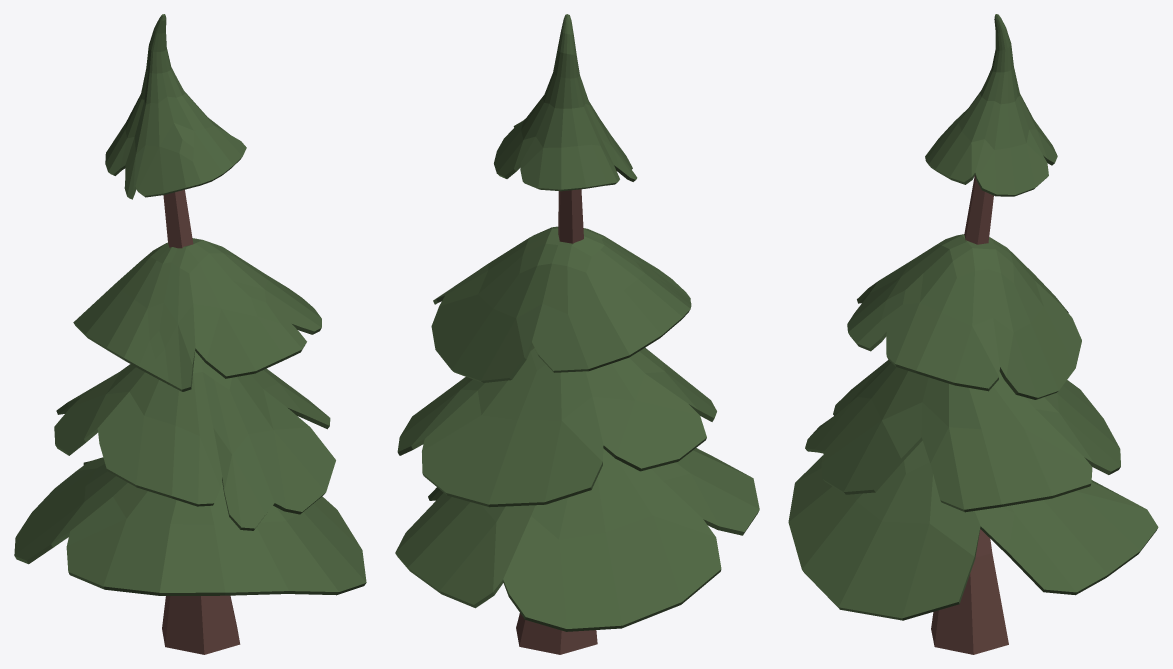
Rendered from PineTree_2.glb.
3 views of the same model, side by side, from view 1: azimuth 30°, elevation 25°; view 2: azimuth 150°, elevation 25°; view 3: azimuth 270°, elevation 25° (orthographic). The views are drawn at different scales.
Parts seen in each view (by area): view 1: PineTree_2; view 2: PineTree_2; view 3: PineTree_2.
Part boxes in pixels (x1,y1,x2,y2): PineTree_2: (14, 14, 366, 654); PineTree_2: (395, 14, 759, 654); PineTree_2: (788, 14, 1158, 654).
Size of the model in its own units: 1.8 by 3.56 by 1.96.
